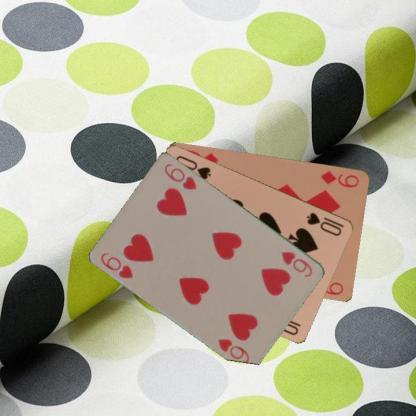10s: (304, 209, 345, 238)
6h: (98, 250, 135, 282), (279, 249, 314, 278)
9d: (318, 168, 361, 189)
